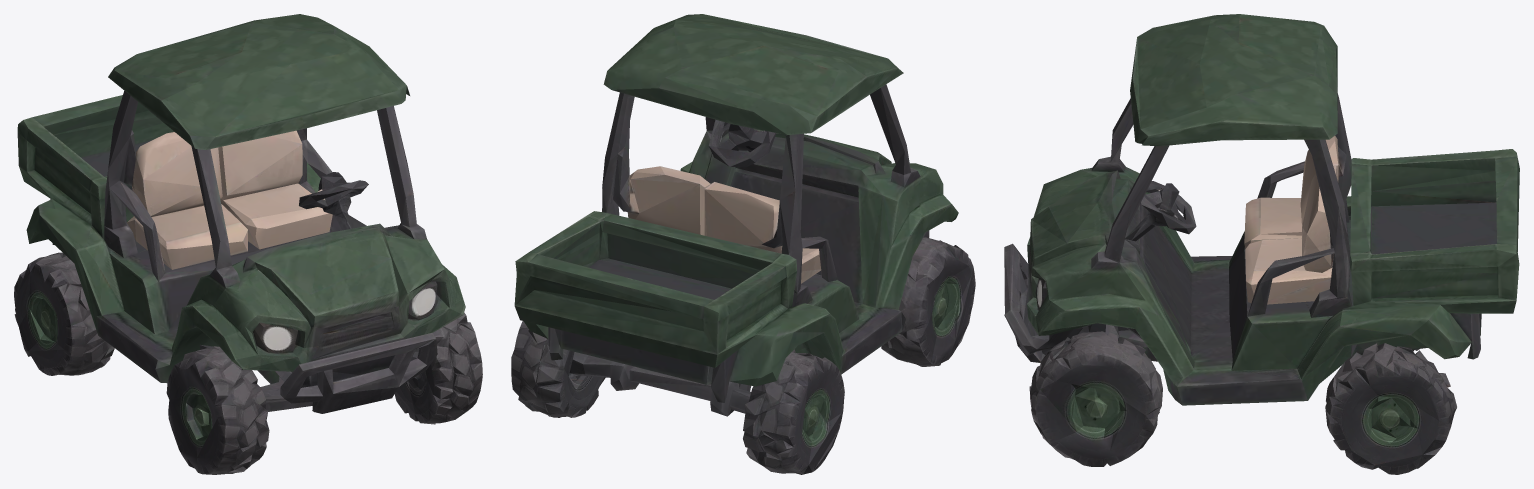
File: ranger-cart.glb
3 views of the same model, side by side, from view 1: azimuth 30°, elevation 25°; view 2: azimuth 150°, elevation 25°; view 3: azimuth 270°, elevation 25° (orthographic). The views are drawn at different scales.
Size of the model in its own units: 1.85 by 2.15 by 2.79.
Materials: 1 (1 with a texture image).
